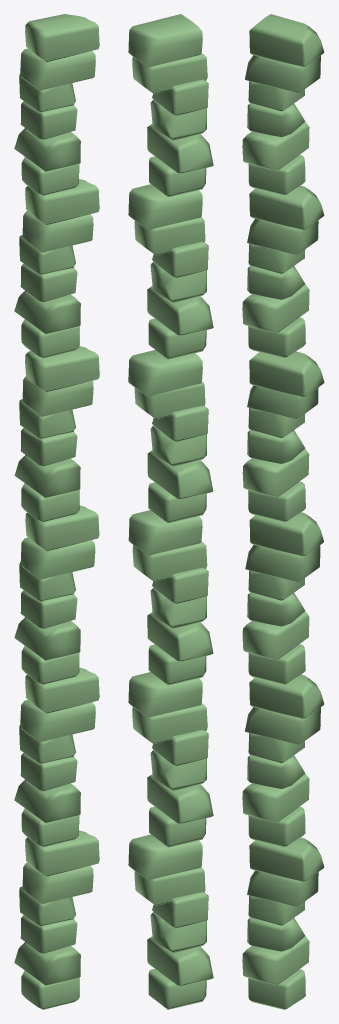
The model's file is Slab_Wall_01_x3_Lod0.fbx.
3 renders of one model, left to right at view 1: azimuth 30°, elevation 25°; view 2: azimuth 210°, elevation 25°; view 3: azimuth 330°, elevation 25°, orthographic.
Parts seen in each view (by area): view 1: Slab_Wall_01_x3_Lod0; view 2: Slab_Wall_01_x3_Lod0; view 3: Slab_Wall_01_x3_Lod0.
Part boxes in pixels (x1=…): Slab_Wall_01_x3_Lod0: x1=14, y1=14, x2=99, y2=1009; Slab_Wall_01_x3_Lod0: x1=128, y1=14, x2=213, y2=1009; Slab_Wall_01_x3_Lod0: x1=242, y1=14, x2=324, y2=1009.
Size of the model in its own units: 60.15 by 903 by 55.28.
